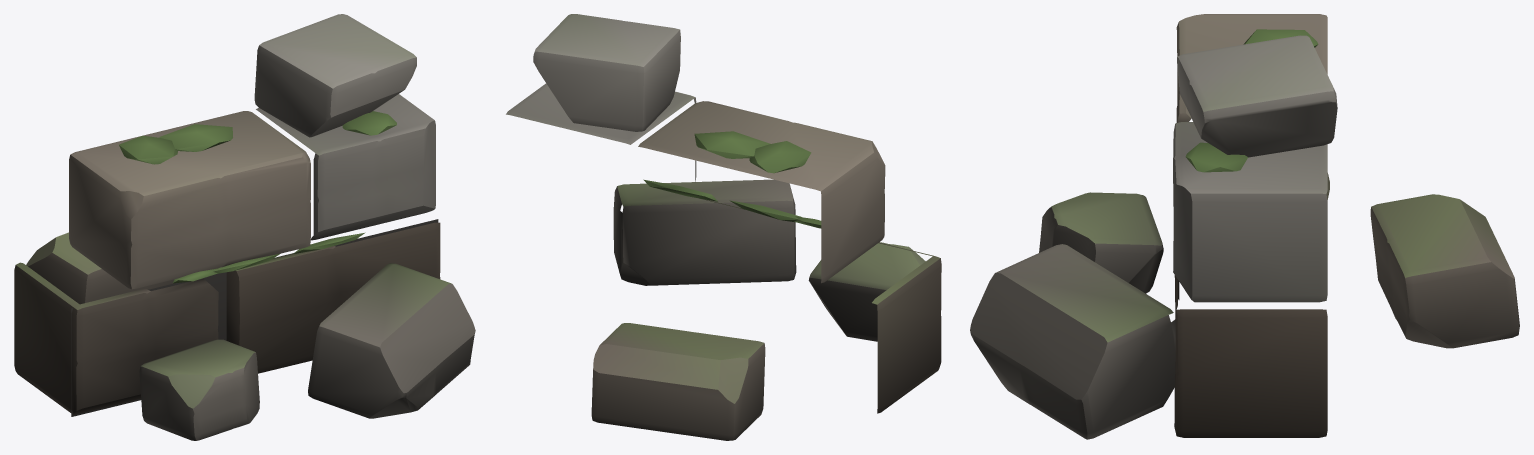
Rendered from ruins-wall-c-v3.glb.
The picture shows the model from 3 angles, left to right: view 1: azimuth 30°, elevation 25°; view 2: azimuth 150°, elevation 25°; view 3: azimuth 270°, elevation 25°; orthographic projection. The views are drawn at different scales.
Parts seen in each view (by area): view 1: 0_ruins_wall_c; view 2: 0_ruins_wall_c; view 3: 0_ruins_wall_c.
Boxes of the visible parts, <box> form: 0_ruins_wall_c: <box>14,14,475,440</box>; 0_ruins_wall_c: <box>506,14,941,440</box>; 0_ruins_wall_c: <box>970,14,1519,439</box>.
Bounding box in the file's own units: 1.98 × 1.47 × 2.16.
